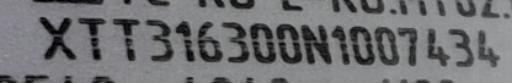letter: (32, 15, 80, 60), (74, 15, 110, 60), (109, 16, 143, 61), (142, 17, 176, 62), (300, 21, 334, 66), (420, 25, 452, 68), (196, 19, 226, 64), (273, 20, 303, 65), (247, 21, 277, 64), (346, 24, 376, 67), (474, 26, 504, 69), (172, 18, 200, 63), (373, 23, 401, 68), (220, 22, 250, 63), (445, 27, 475, 68), (395, 24, 423, 67), (329, 24, 351, 67)
